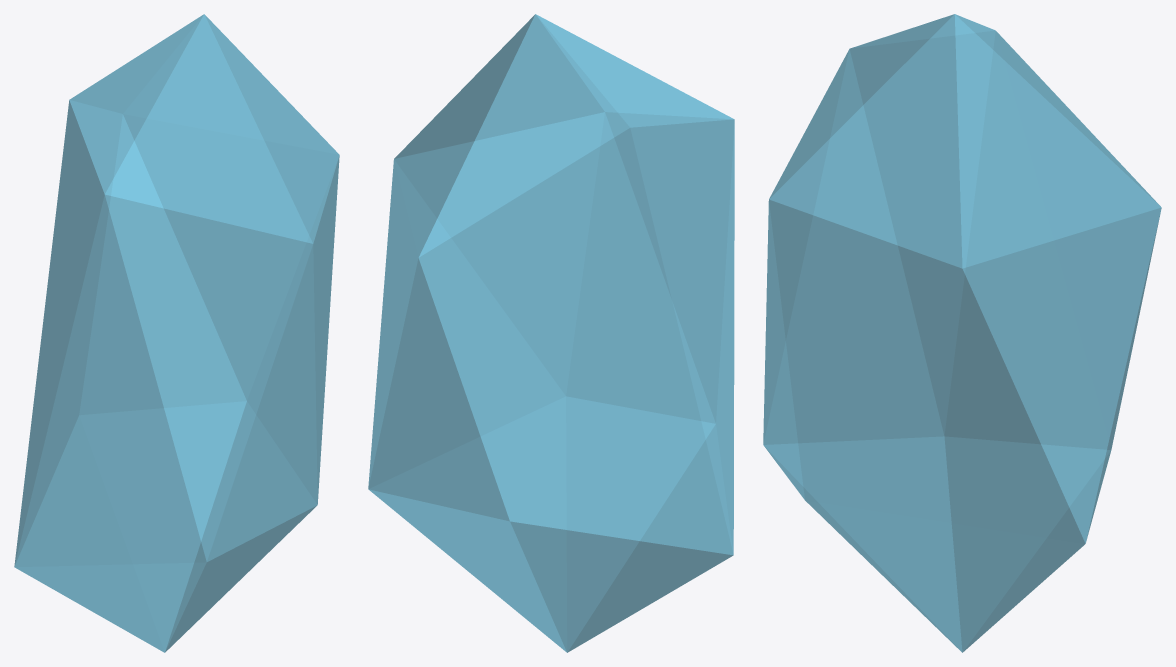
The model's file is jewel.glb.
3 views of the same model, side by side, from view 1: azimuth 30°, elevation 25°; view 2: azimuth 150°, elevation 25°; view 3: azimuth 270°, elevation 25° (orthographic). The views are drawn at different scales.
Visible parts, largest first — view 1: Icosphere; view 2: Icosphere; view 3: Icosphere.
Boxes of the visible parts, <box> form: Icosphere: <box>14,14,339,652</box>; Icosphere: <box>368,14,734,652</box>; Icosphere: <box>763,14,1161,652</box>.
Size of the model in its own units: 2.15 by 3.9 by 2.14.
